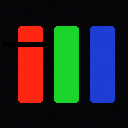3 line_h: (3, 42, 47, 46)
